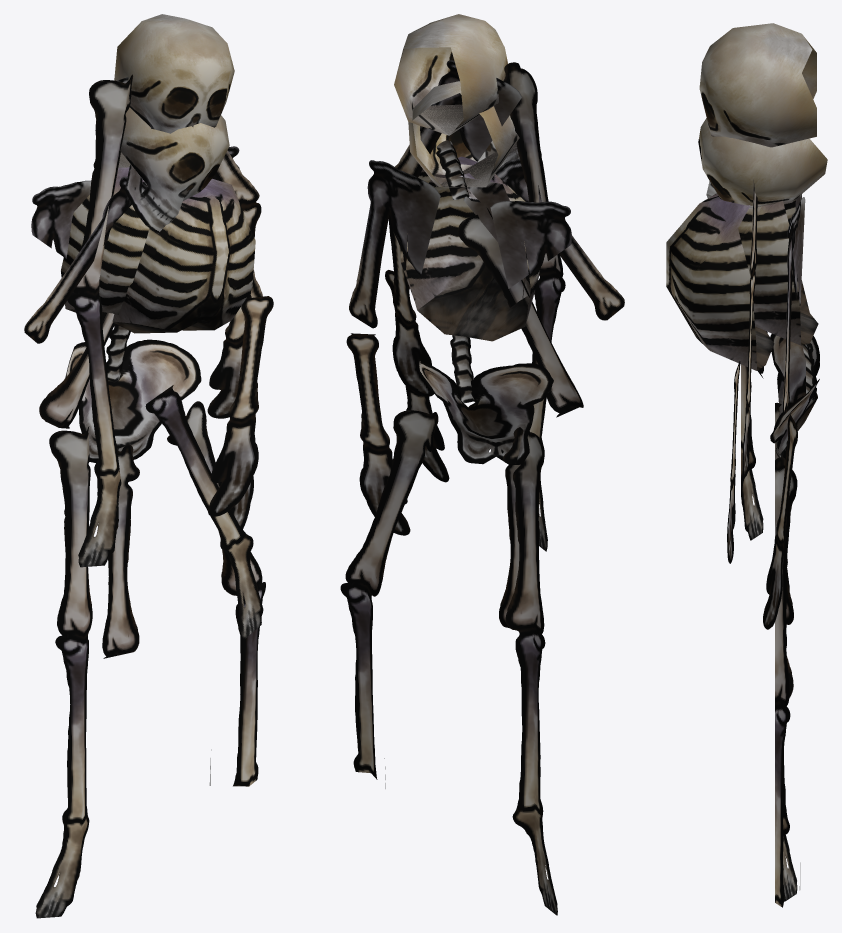
Rendered from PRP_CatacombSkeleton.FBX.
The picture shows the model from 3 angles, left to right: view 1: azimuth 30°, elevation 25°; view 2: azimuth 150°, elevation 25°; view 3: azimuth 270°, elevation 25°; orthographic projection. The views are drawn at different scales.
Parts seen in each view (by area): view 1: PRP_CatacombSkeleton01, PRP_CatacombSkeleton02, PRP_CatacombSkeleton03; view 2: PRP_CatacombSkeleton01, PRP_CatacombSkeleton03, PRP_CatacombSkeleton02; view 3: PRP_CatacombSkeleton01, PRP_CatacombSkeleton02, PRP_CatacombSkeleton03.
Boxes of the visible parts, x1,y1,x2,y2 form: PRP_CatacombSkeleton01: (31,14,265,918); PRP_CatacombSkeleton02: (24,176,273,658); PRP_CatacombSkeleton03: (39,74,261,567); PRP_CatacombSkeleton01: (340,14,571,915); PRP_CatacombSkeleton03: (388,60,583,551); PRP_CatacombSkeleton02: (385,156,624,628); PRP_CatacombSkeleton01: (699,23,819,907); PRP_CatacombSkeleton02: (666,193,774,563); PRP_CatacombSkeleton03: (698,118,827,540).
Bounding box in the file's own units: 59.17 × 169 × 26.81.
